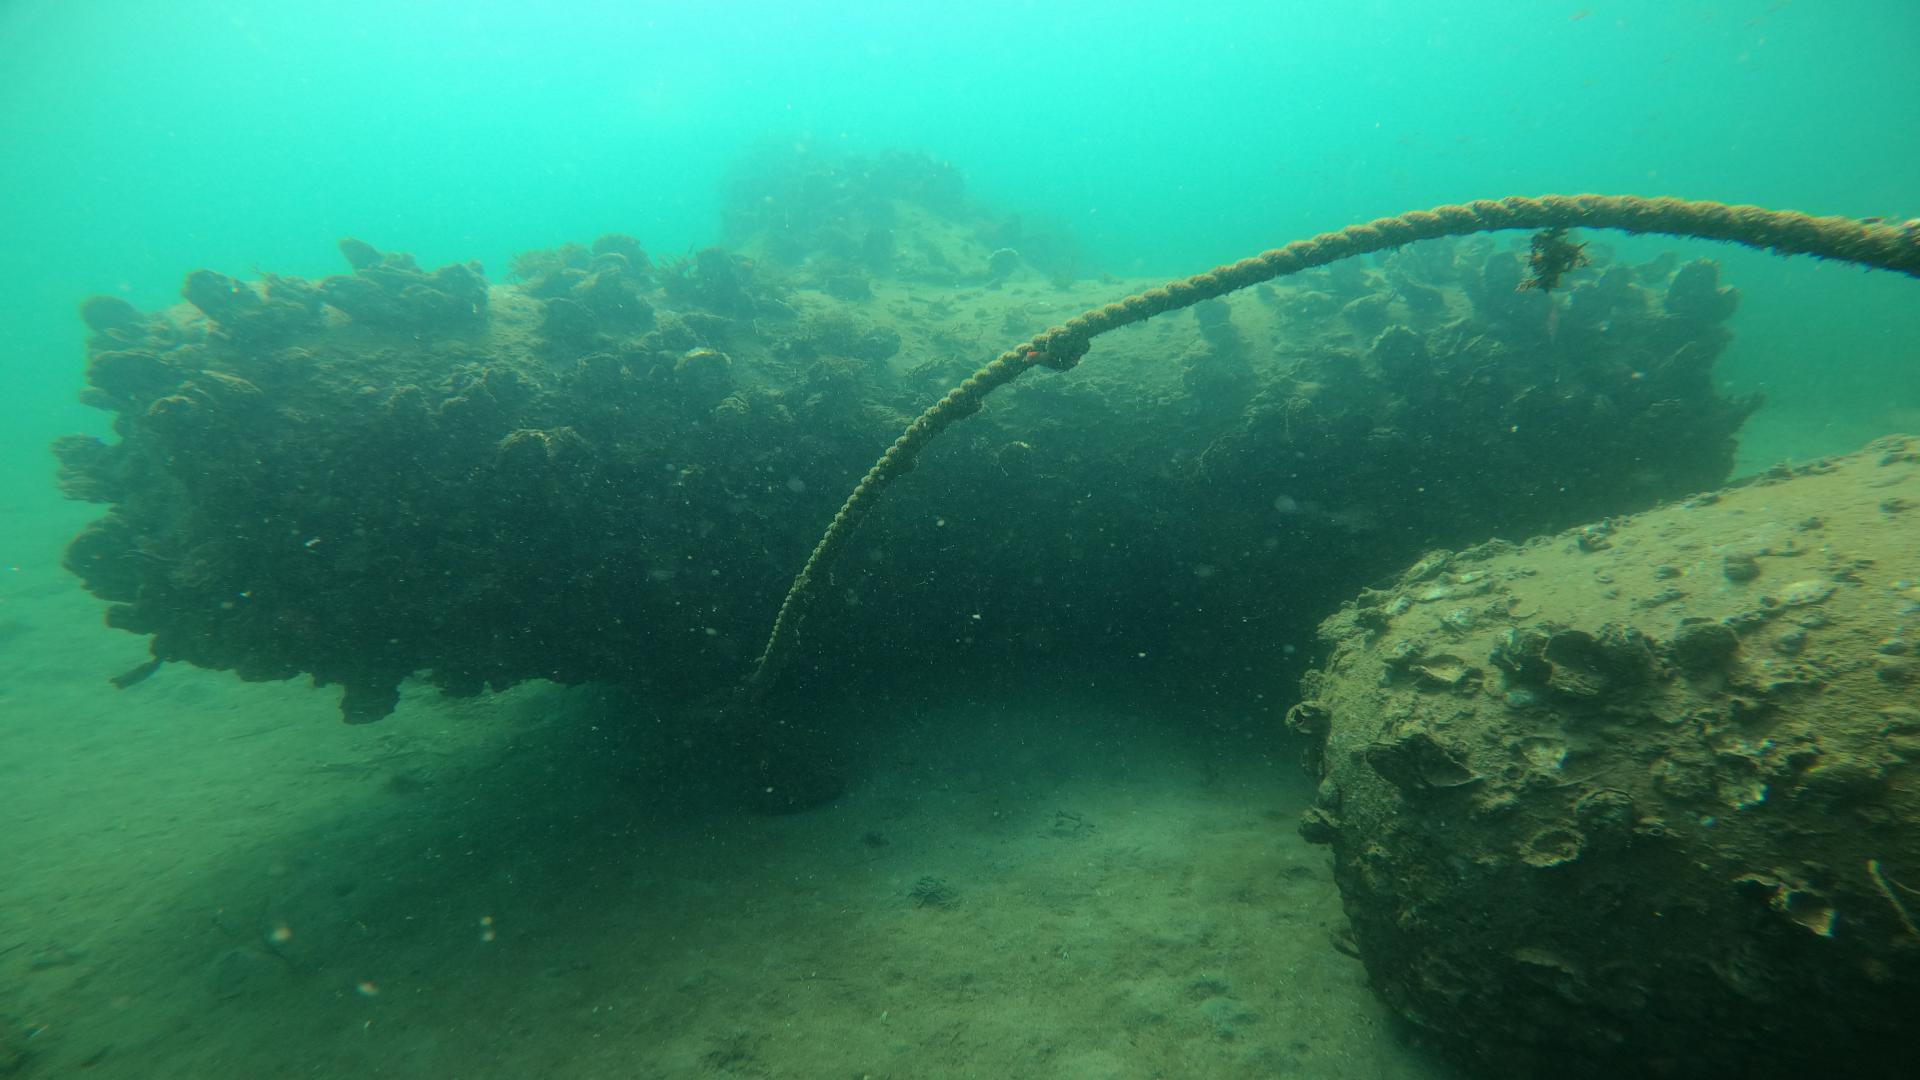rope: (745, 190, 1920, 702)
